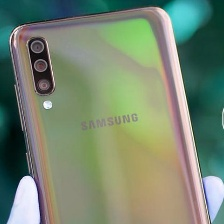phone: (7, 0, 224, 224)
